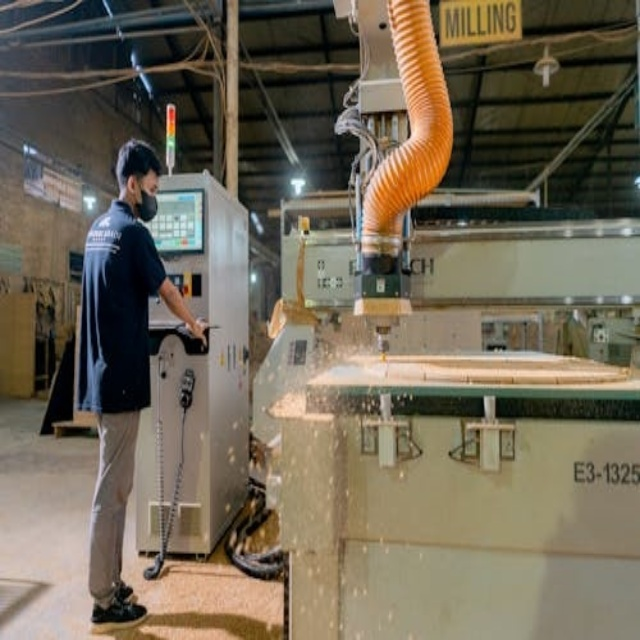Mascara: (134, 186, 159, 222)
Sin_gafas: (136, 177, 159, 198)
Sin_guantes: (188, 322, 209, 351)
